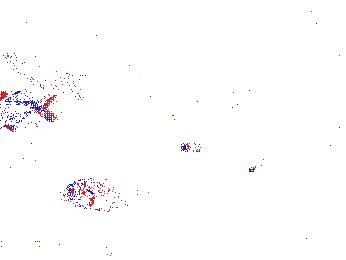X-ray fish: (66, 176, 141, 214), (21, 30, 49, 82)
red belly glassfish: (176, 136, 227, 159), (248, 152, 276, 175)
redtail glassfish: (4, 49, 88, 105), (161, 99, 241, 132), (181, 77, 263, 101), (1, 98, 57, 123)
